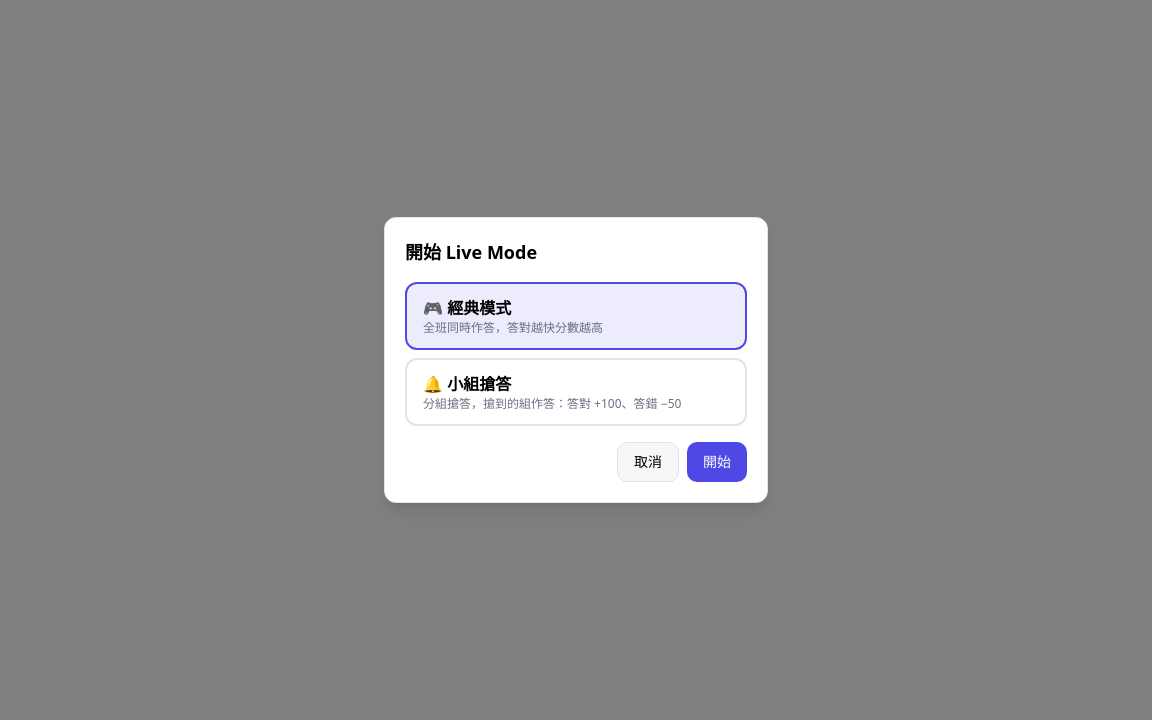
LiveStartDialog › 組數下限 2：減到 2 後按鈕停用
This screenshot has width=1152, height=720.
Click the radio button labelled "🔔 小組搶答 分組搶答，搶到的組作答：答對 +100、答錯 −50". click: (576, 392)
box: [405,358,747,426]
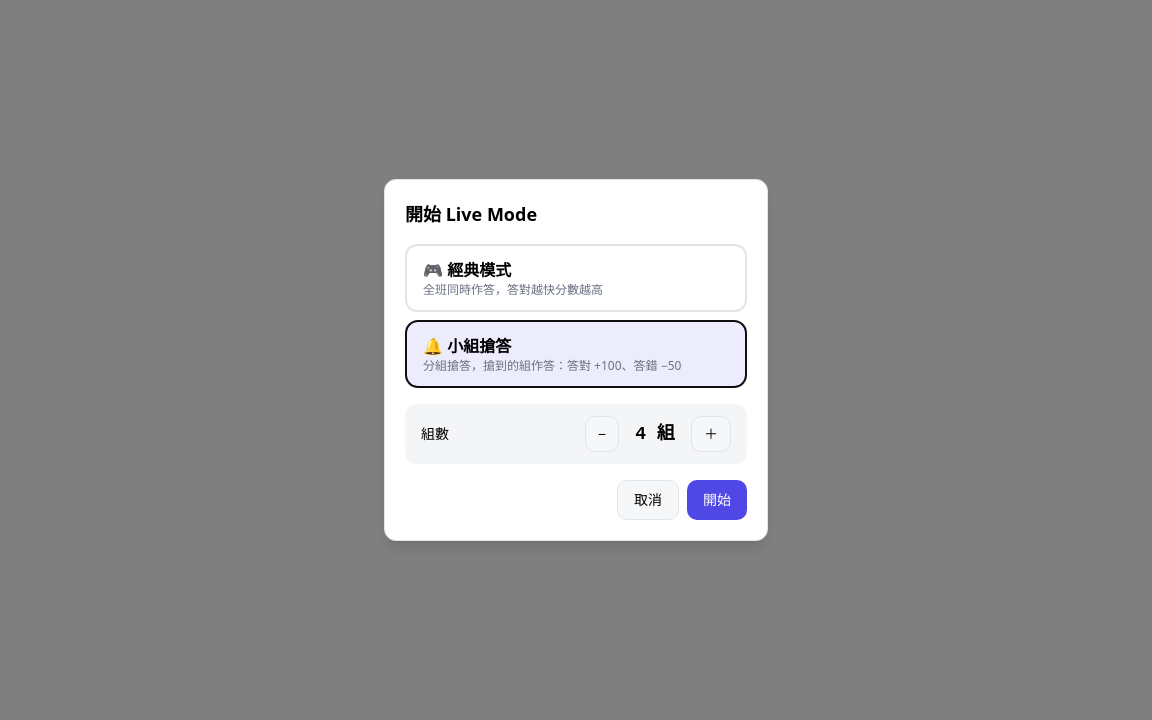
Click the button named "減少組數". click: (602, 434)
box: [585,416,619,452]
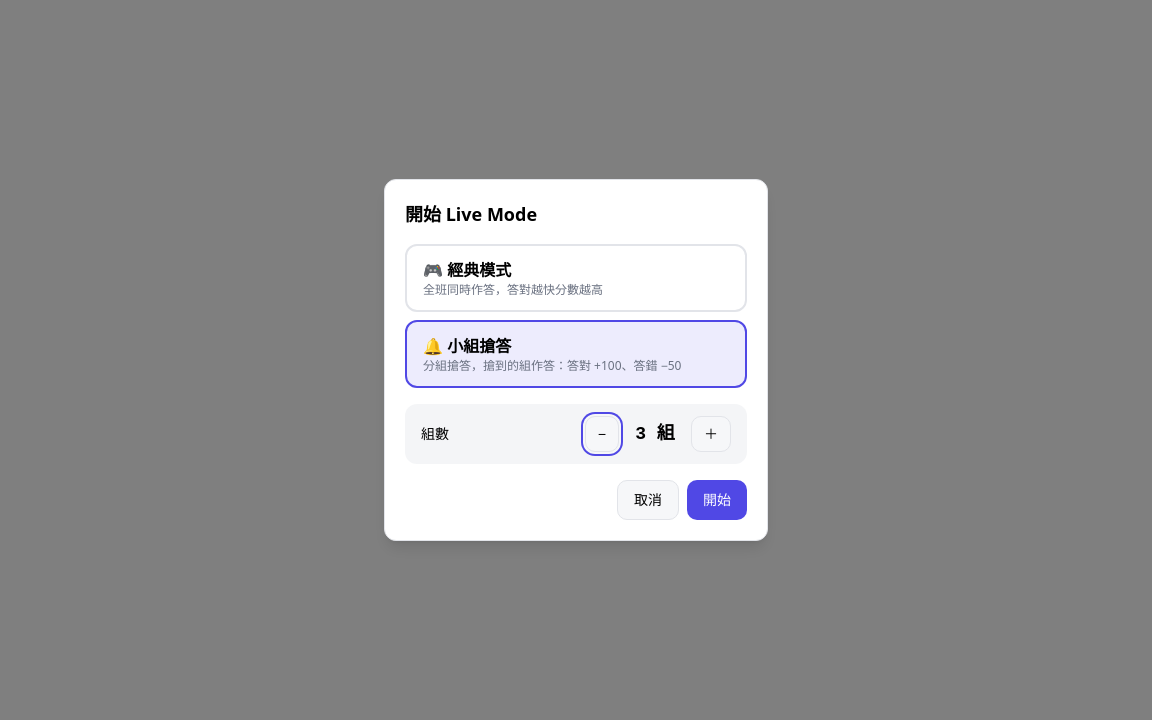
Click the button named "減少組數". click: (602, 434)
box: [585,416,619,452]
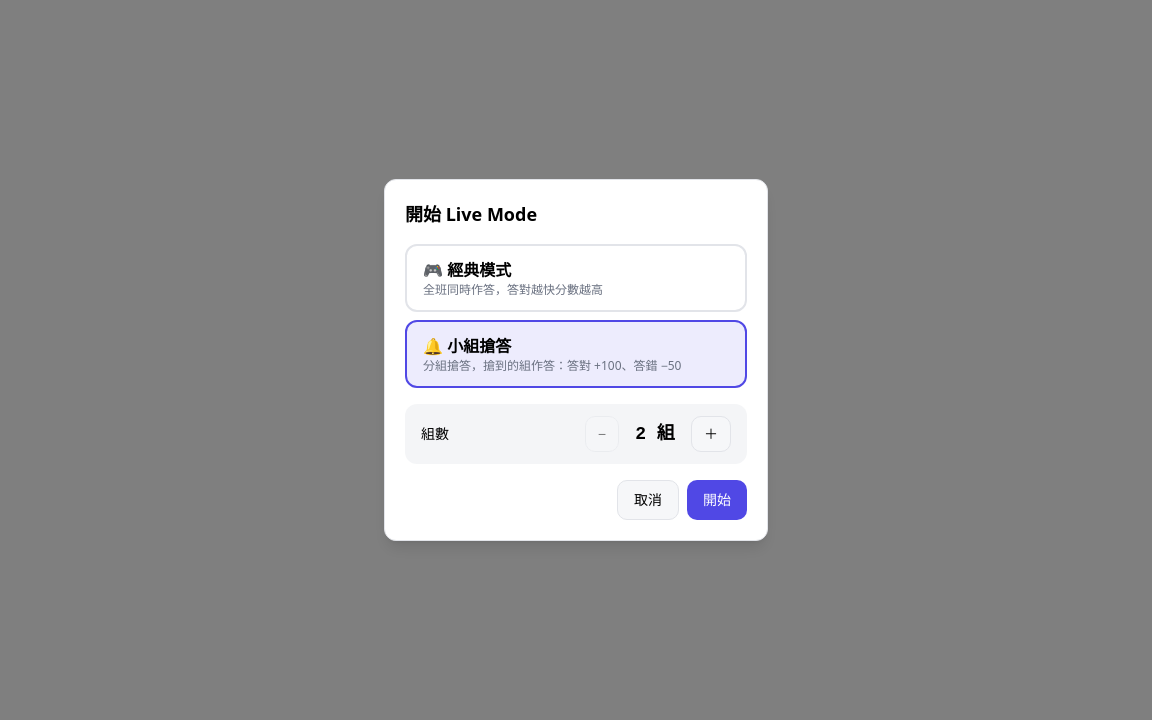
Check: the text "2 組" is shown, box [635,424,675,444]
